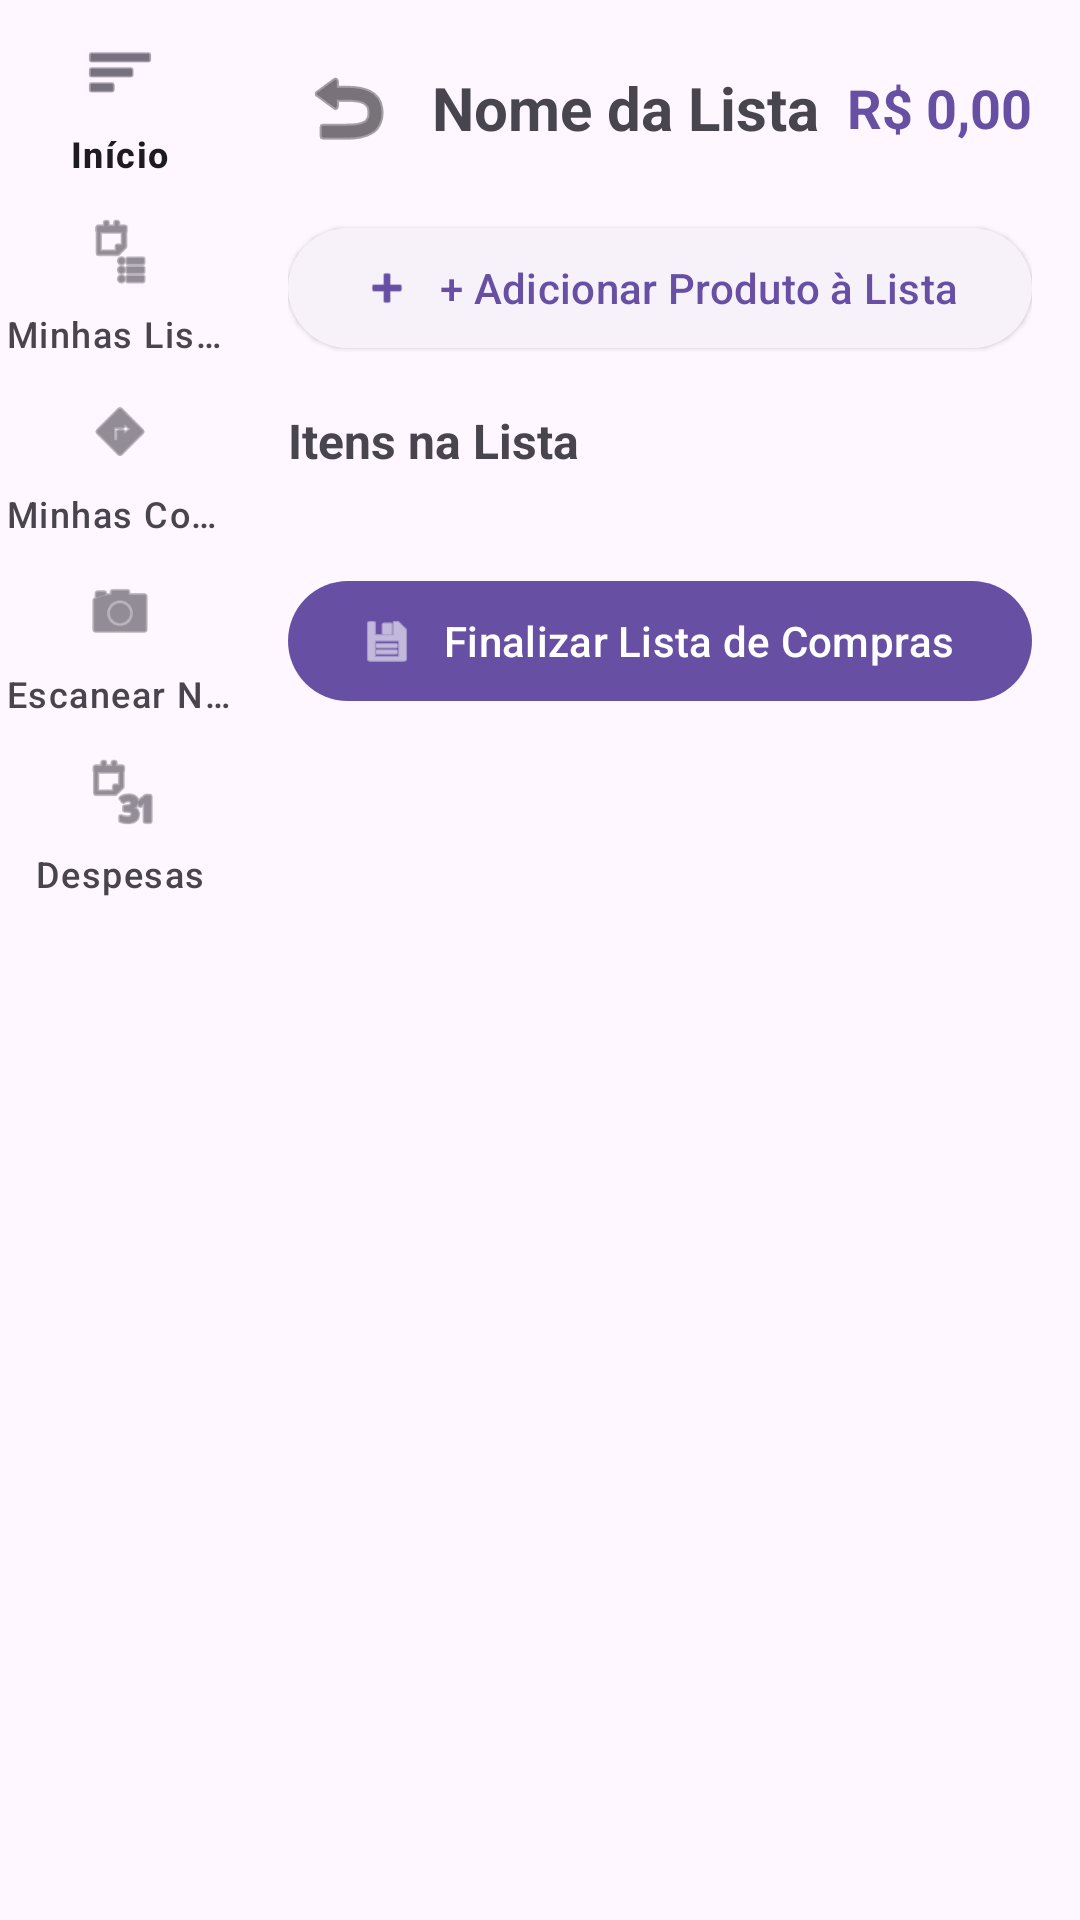

Point at icon controls on the screen. Image size 1080px×1920px, points as (x=x, y=y).
revert: (x=349, y=108)
